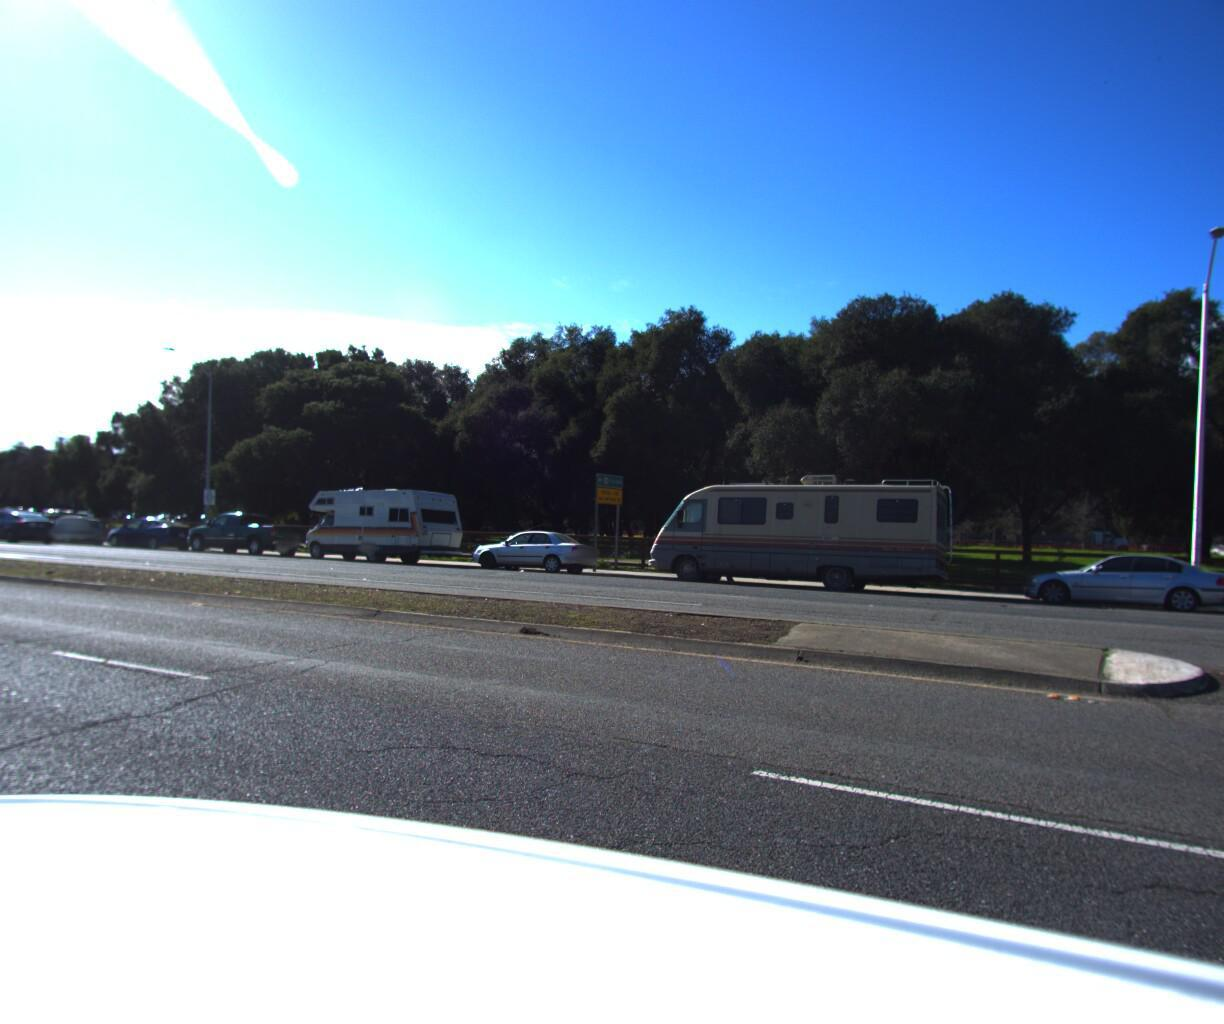car: (1011, 544, 1224, 615), (460, 522, 604, 574), (178, 507, 309, 553), (96, 511, 198, 548), (26, 508, 111, 541), (0, 506, 67, 540)
other_vehicle: (631, 464, 958, 595), (292, 480, 468, 563)
